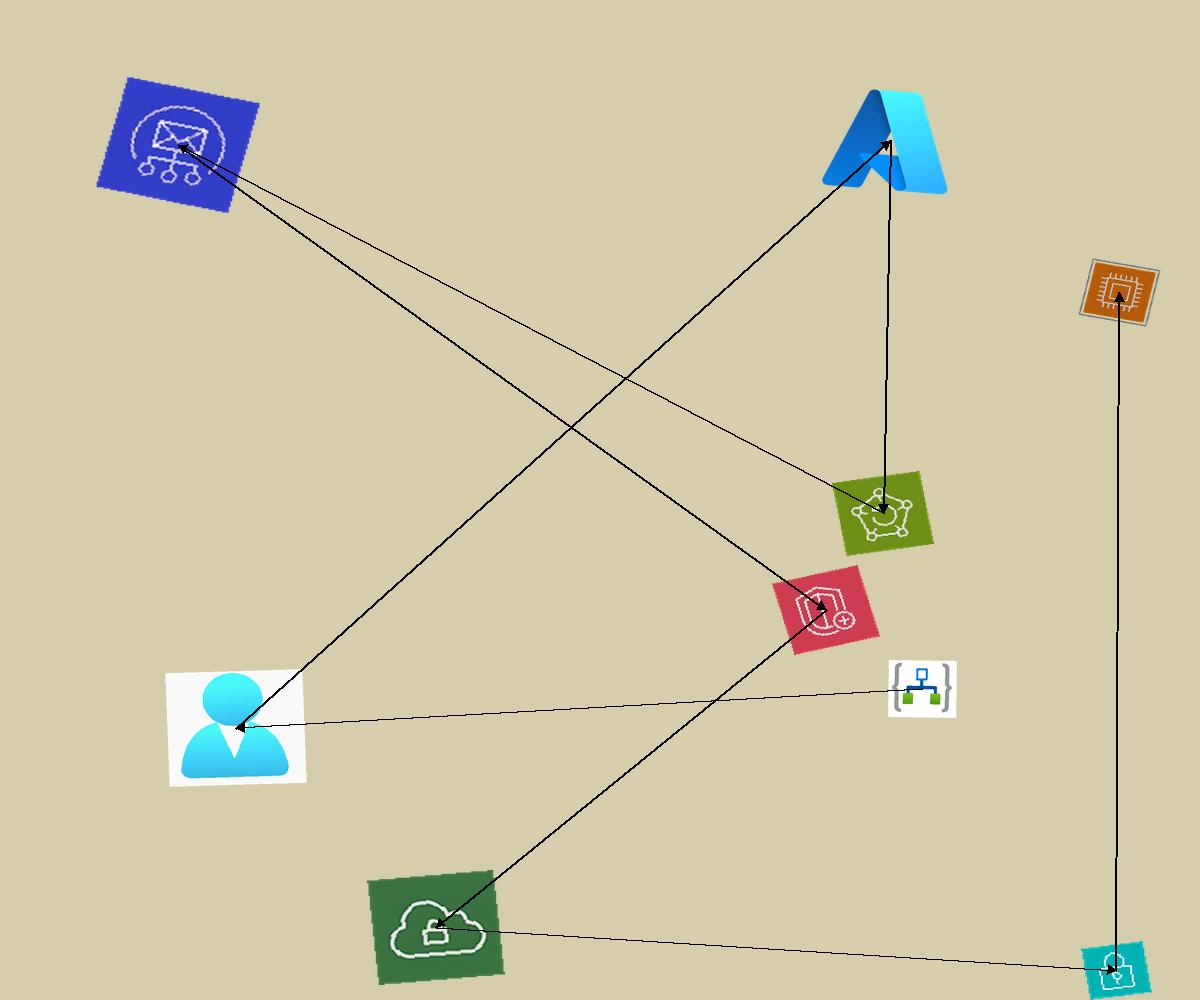AWS-Backup: (831, 470, 935, 557)
AWS-Category_Compute: (1078, 258, 1161, 327)
AWS-Private-subnet: (1081, 941, 1152, 1000)
AWS-Private_vpc: (367, 870, 505, 985)
AWS-Shield: (772, 565, 880, 655)
AWS-Simple-Email-Service: (95, 76, 261, 214)
Azure_integration-204-Logic-Apps: (888, 660, 957, 718)
Azure_services: (815, 78, 965, 203)
Azure_users: (165, 669, 307, 787)
